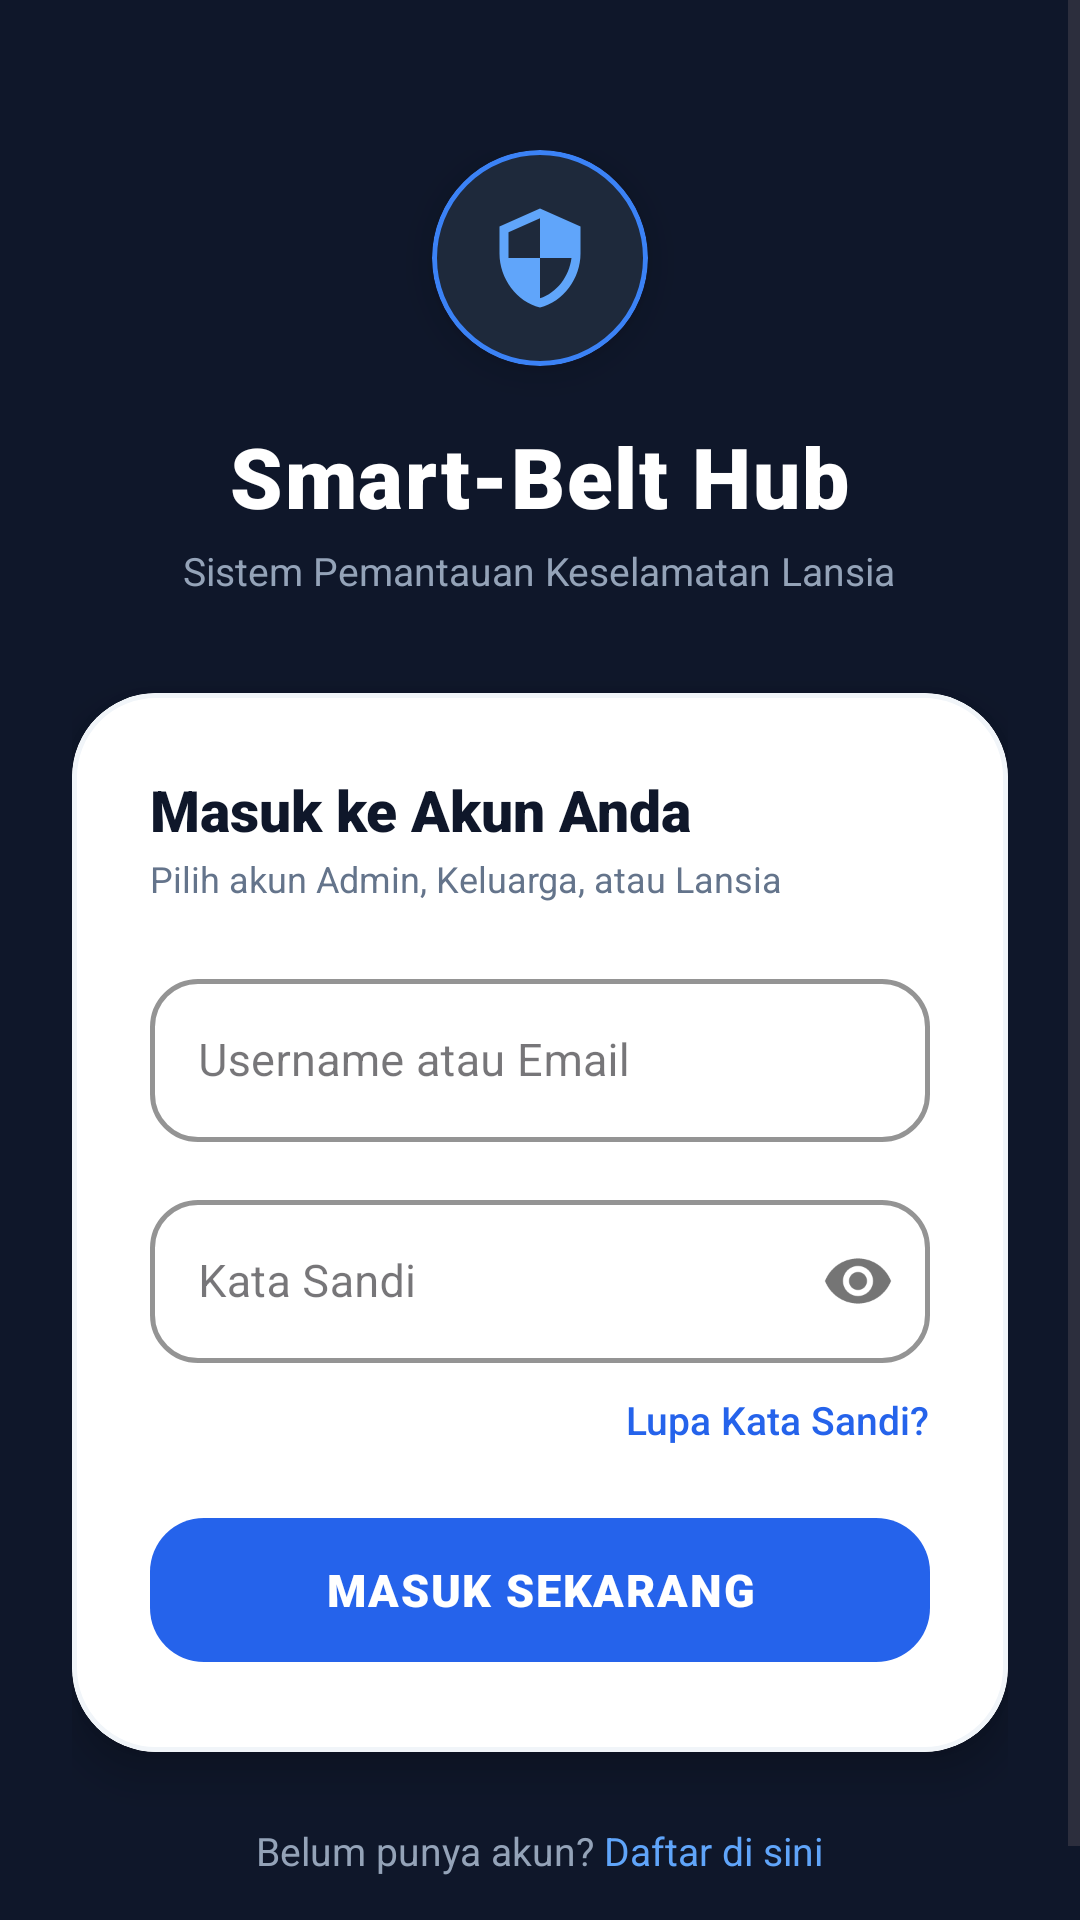

Where icons sit on this 1080px×1920px app screen, as (x1, y1, x2, y2):
shield: (432, 150, 648, 366)
